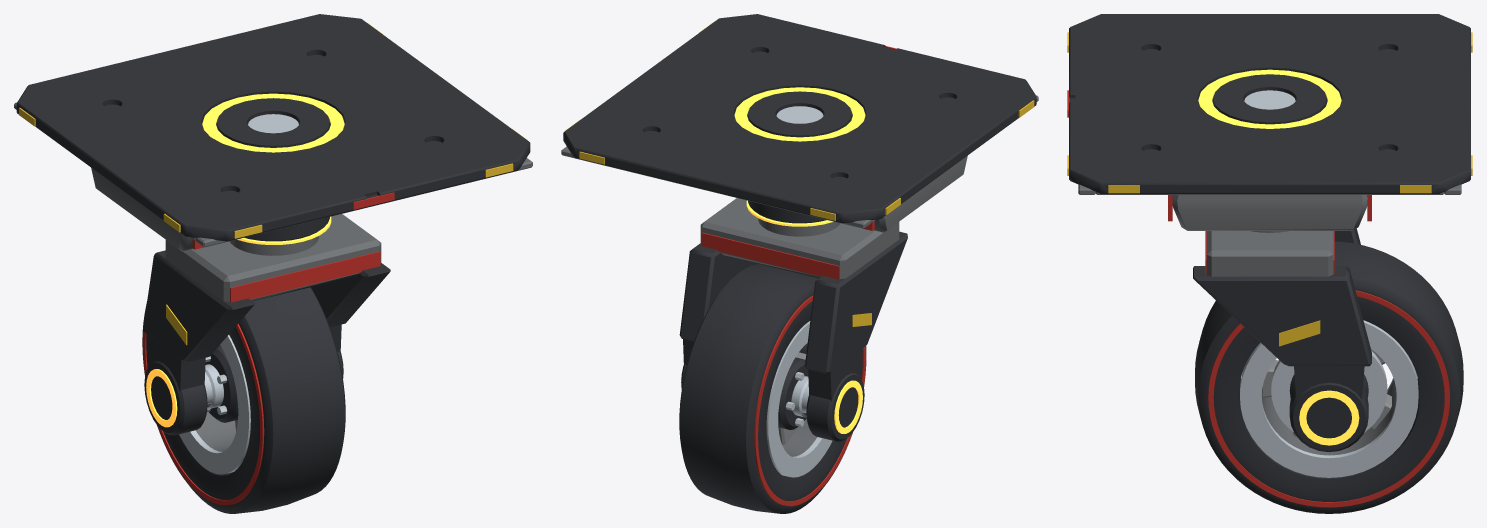
File: R4M_WheelS_Caster_Slick.glb
The picture shows the model from 3 angles, left to right: view 1: azimuth 30°, elevation 25°; view 2: azimuth 150°, elevation 25°; view 3: azimuth 270°, elevation 25°; orthographic projection. The views are drawn at different scales.
Parts seen in each view (by area): view 1: R4M_WheelS_Caster_Slick_Mount, R4M_WheelS_Caster_Slick_Rotor, R4M_WheelS_Caster_Slick_Swivel; view 2: R4M_WheelS_Caster_Slick_Mount, R4M_WheelS_Caster_Slick_Rotor, R4M_WheelS_Caster_Slick_Swivel; view 3: R4M_WheelS_Caster_Slick_Mount, R4M_WheelS_Caster_Slick_Rotor, R4M_WheelS_Caster_Slick_Swivel.
Part boxes in pixels (bbox=[...]): R4M_WheelS_Caster_Slick_Mount: bbox=[14, 14, 532, 251]; R4M_WheelS_Caster_Slick_Rotor: bbox=[142, 287, 345, 513]; R4M_WheelS_Caster_Slick_Swivel: bbox=[143, 214, 390, 435]; R4M_WheelS_Caster_Slick_Mount: bbox=[561, 14, 1038, 232]; R4M_WheelS_Caster_Slick_Rotor: bbox=[679, 264, 866, 513]; R4M_WheelS_Caster_Slick_Swivel: bbox=[679, 198, 907, 441]; R4M_WheelS_Caster_Slick_Mount: bbox=[1067, 14, 1472, 230]; R4M_WheelS_Caster_Slick_Rotor: bbox=[1195, 241, 1463, 513]; R4M_WheelS_Caster_Slick_Swivel: bbox=[1193, 228, 1371, 452].
Size of the model in its own units: 0.5126 by 0.56 by 0.5126.
